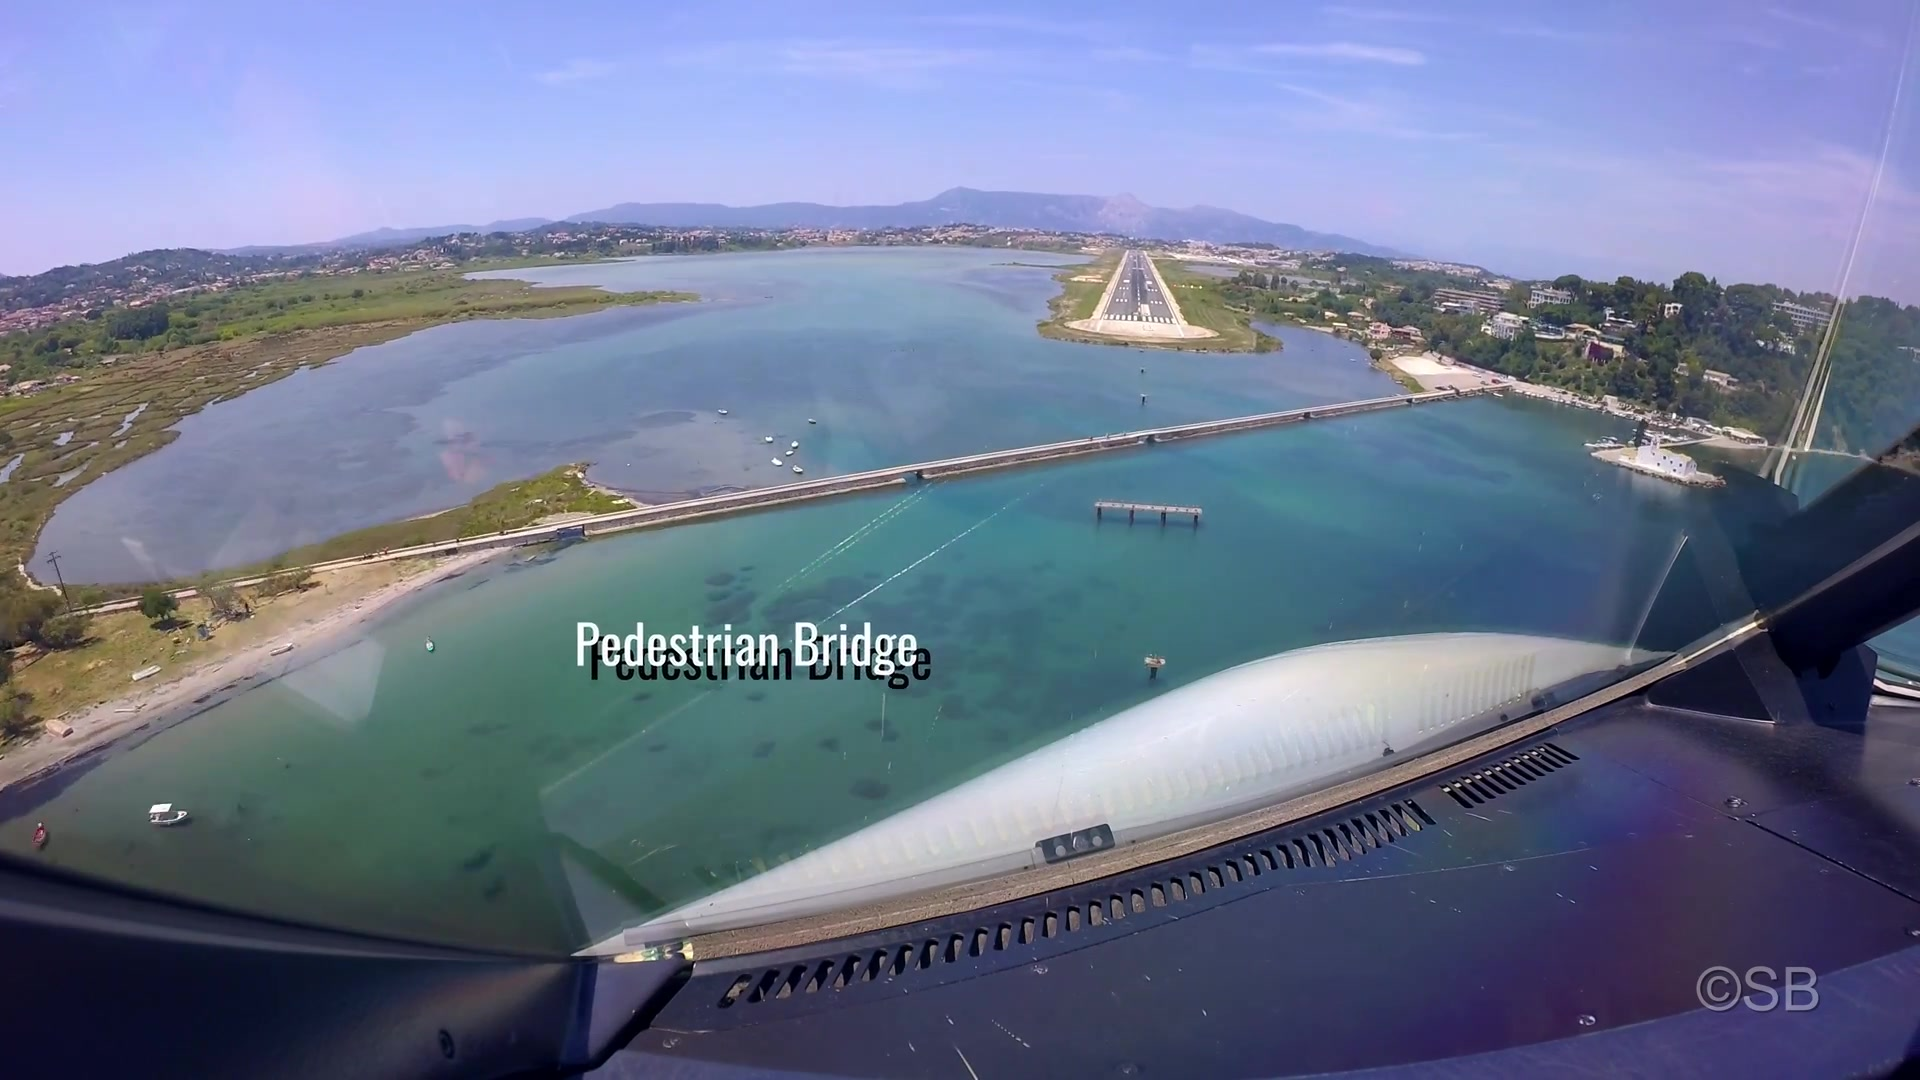entrance: (1104, 313, 1176, 323)
runway: (1098, 251, 1178, 324)
